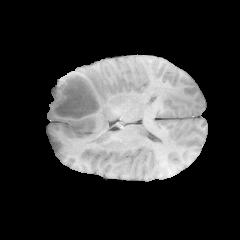glioma: (48, 69, 111, 135)
